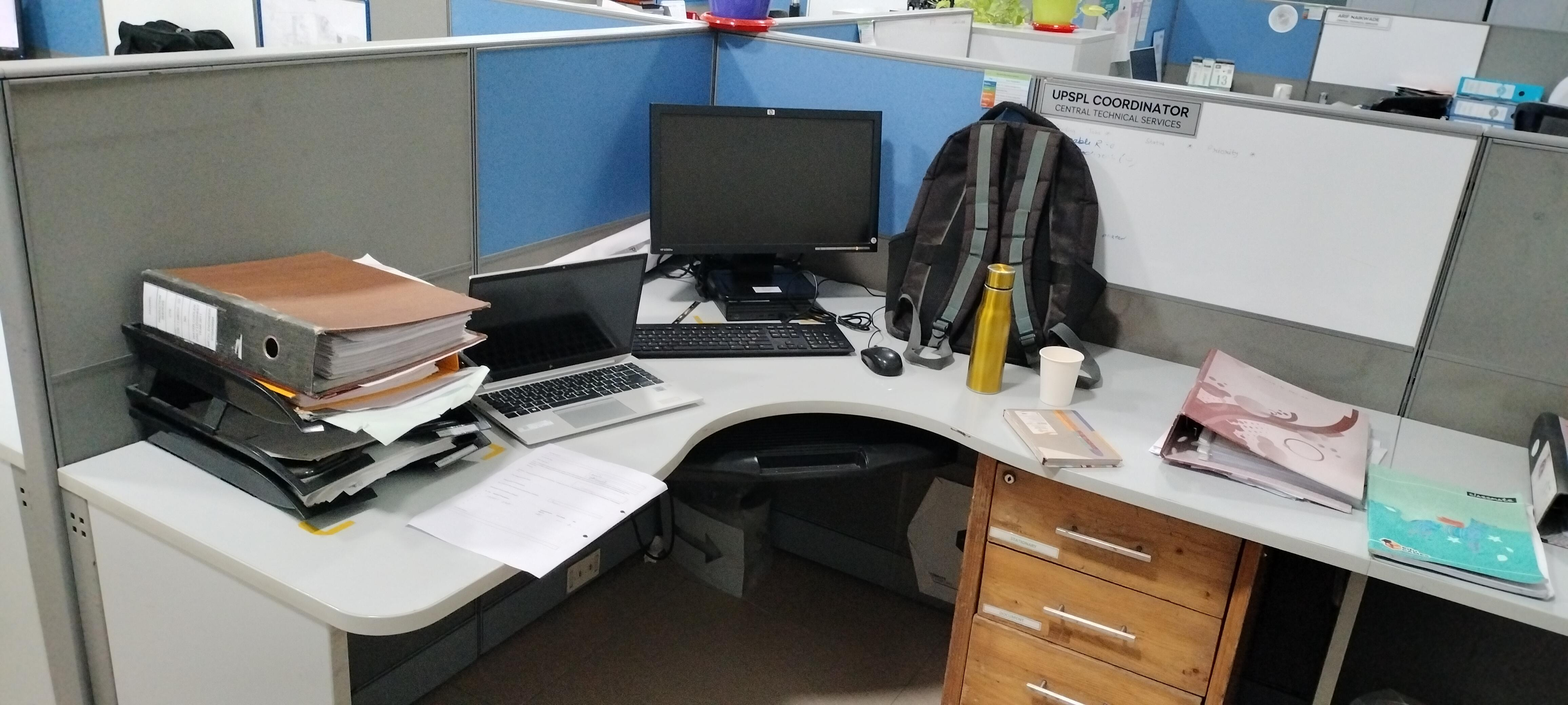StickyNotes: (973, 66, 1038, 110)
bag: (881, 99, 1105, 372)
book: (1365, 460, 1551, 610), (999, 405, 1127, 480)
bottle: (962, 259, 1024, 399)
desktop: (639, 95, 886, 310)
file: (1524, 406, 1568, 545)
filetray: (117, 246, 501, 530)
keyboard: (636, 320, 856, 365)
laptop: (465, 248, 717, 455)
mouse: (857, 341, 904, 380)
mug: (1032, 338, 1085, 407)
nameplate: (1036, 74, 1206, 141)
page: (399, 432, 681, 588)
vase: (684, 0, 785, 33)
